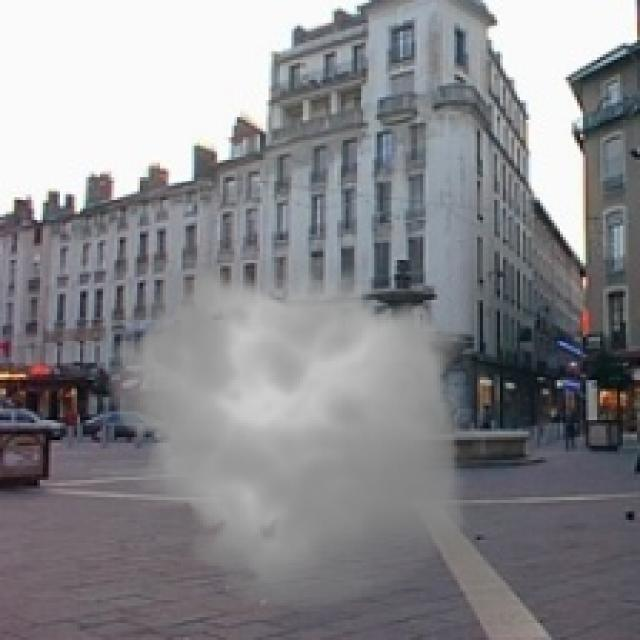Smoke: (91, 240, 486, 623)
